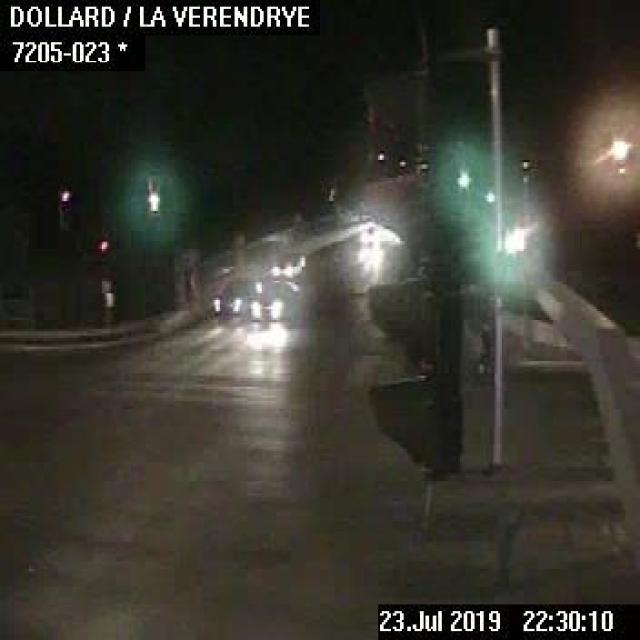vehicle: (213, 282, 245, 320), (249, 293, 285, 322), (271, 251, 302, 283), (356, 220, 384, 249)
